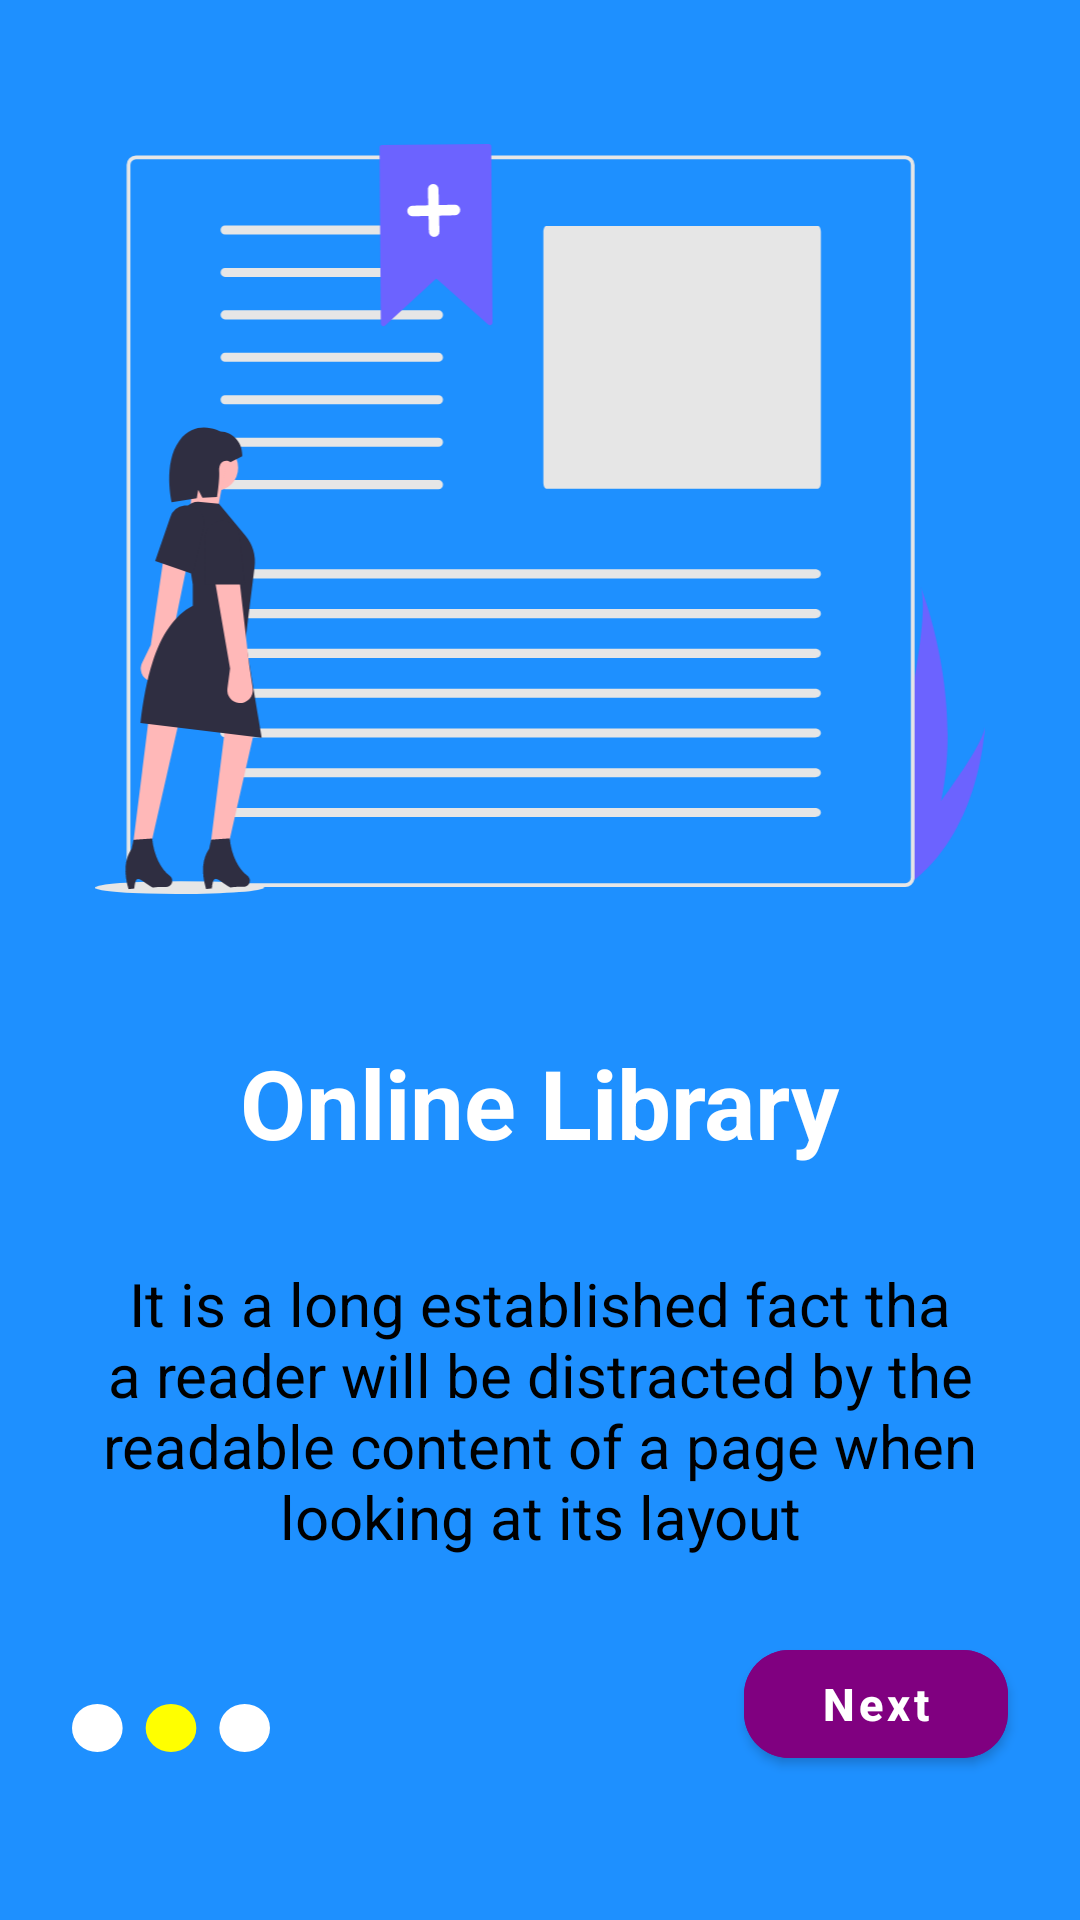

Point at icon controls on the screen. Image size 1080w x 1920h, points as [x,y].
dot: [171,1728]
